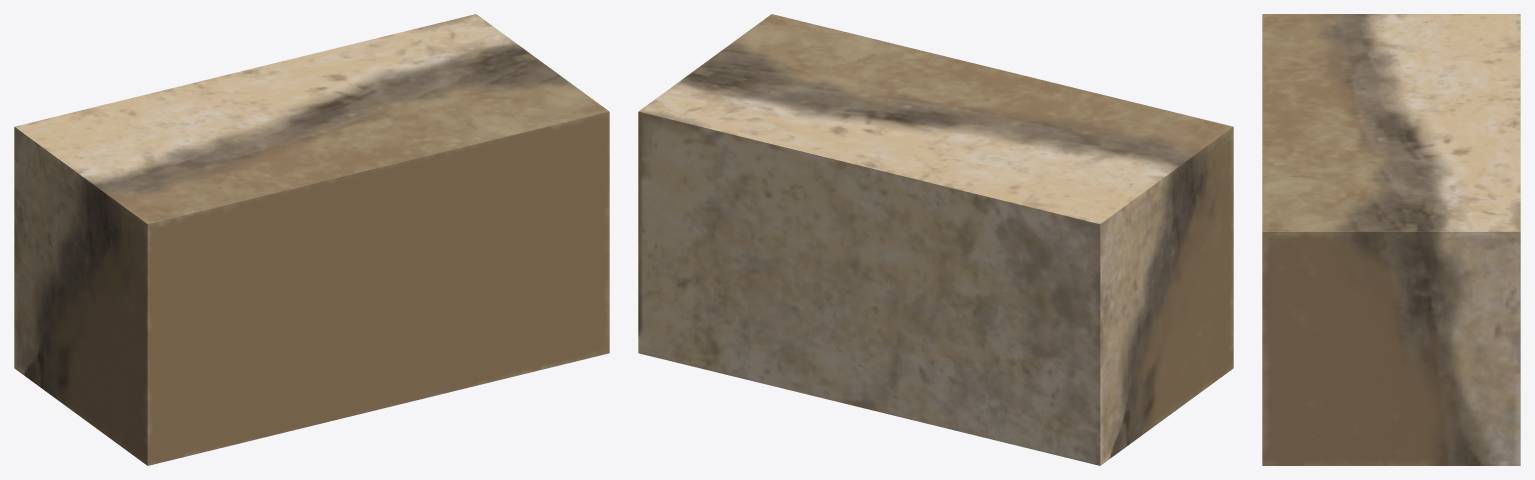
Rendered from groundchange_sand_grass.fbx.
3 renders of one model, left to right at view 1: azimuth 30°, elevation 25°; view 2: azimuth 150°, elevation 25°; view 3: azimuth 270°, elevation 25°, orthographic. The views are drawn at different scales.
Parts seen in each view (by area): view 1: desert_ground_sanddirt7; view 2: desert_ground_sanddirt7; view 3: desert_ground_sanddirt7.
Part boxes in pixels (x1,y1,x2,y2): desert_ground_sanddirt7: [14, 14, 609, 465]; desert_ground_sanddirt7: [638, 14, 1233, 465]; desert_ground_sanddirt7: [1262, 14, 1520, 465].
Size of the model in its own units: 200 by 100 by 100.
